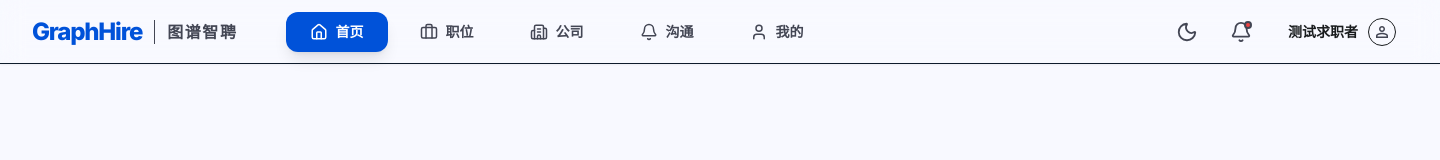
Test: MockUser Navbar auth display › 点击用户头像展示退出登录菜单
What coordinates should you click on to do the following:
click the button with aria-label "用户账户菜单"
I would click on:
 (1342, 32)
Its box is [1276,12,1408,52].
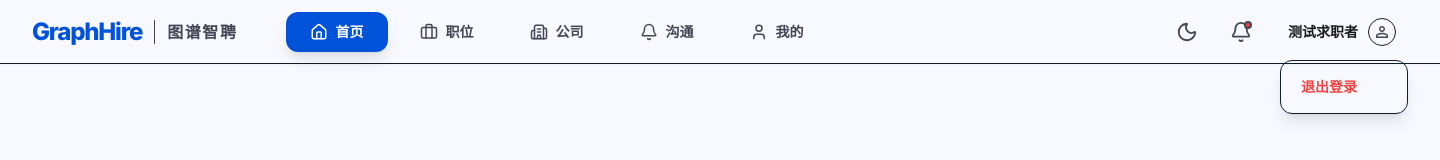
Check: the button "退出登录" is shown, box [1289,68,1399,104]
